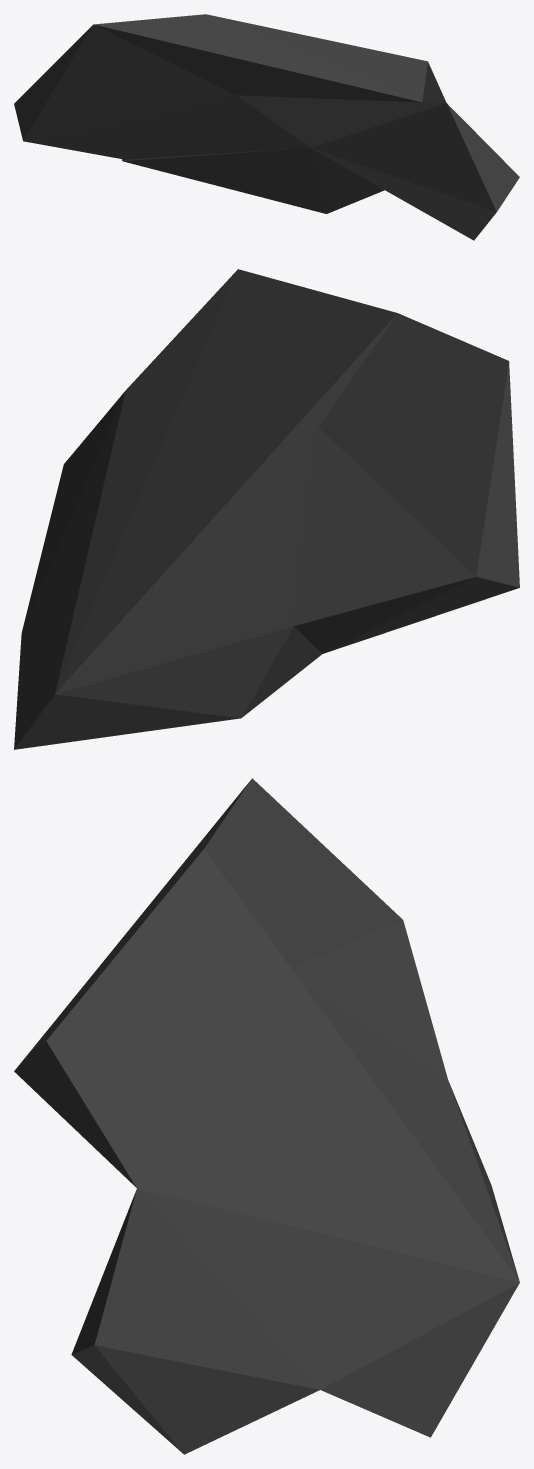
File: Femur_extensor_fossa.glb
3 renders of one model, top to bottom at view 1: azimuth 30°, elevation 25°; view 2: azimuth 150°, elevation 25°; view 3: azimuth 270°, elevation 25°, orthographic. The views are drawn at different scales.
Visible parts, largest first — view 1: Femur_extensor_fossa; view 2: Femur_extensor_fossa; view 3: Femur_extensor_fossa.
Part boxes in pixels (<box>): Femur_extensor_fossa: <box>14,14,519,240</box>; Femur_extensor_fossa: <box>14,269,519,749</box>; Femur_extensor_fossa: <box>14,778,519,1454</box>.
Bounding box in the file's own units: 0.0108 × 0.00765 × 0.00781.
Materials: 1 (1 with a texture image).
